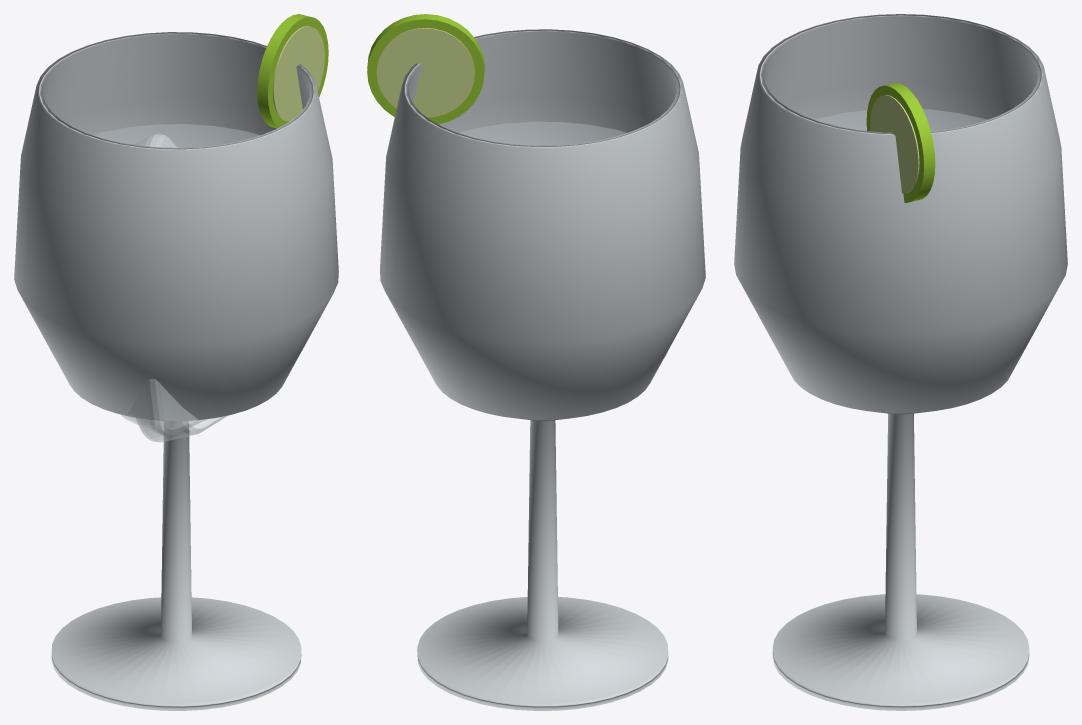
File: cocktail-gin-tonic.glb
3 renders of one model, left to right at view 1: azimuth 30°, elevation 25°; view 2: azimuth 150°, elevation 25°; view 3: azimuth 270°, elevation 25°, orthographic. The views are drawn at different scales.
Size of the model in its own units: 0.1124 by 0.2154 by 0.104.
